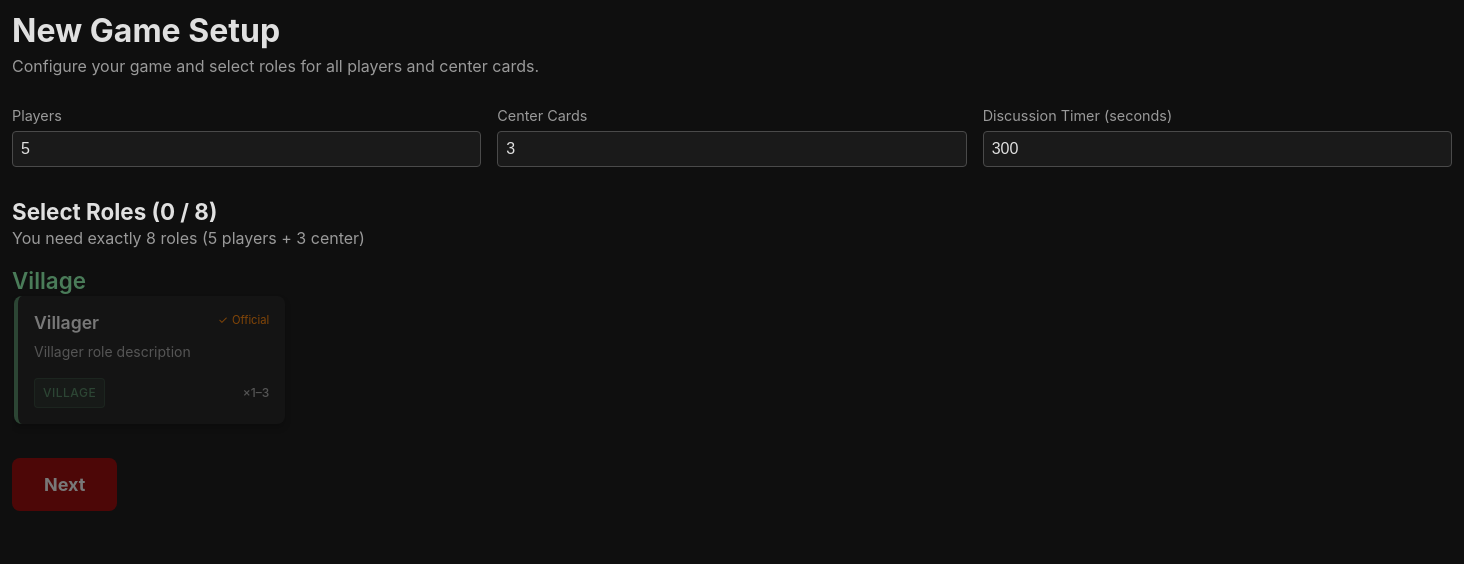
Scenario: GameSetupPage › multi-copy role selection › + button disabled at max_count
What coordinates should you click on to do the following:
click the text "Villager"
I would click on:
 (150, 360)
Its box is [12,294,287,426].
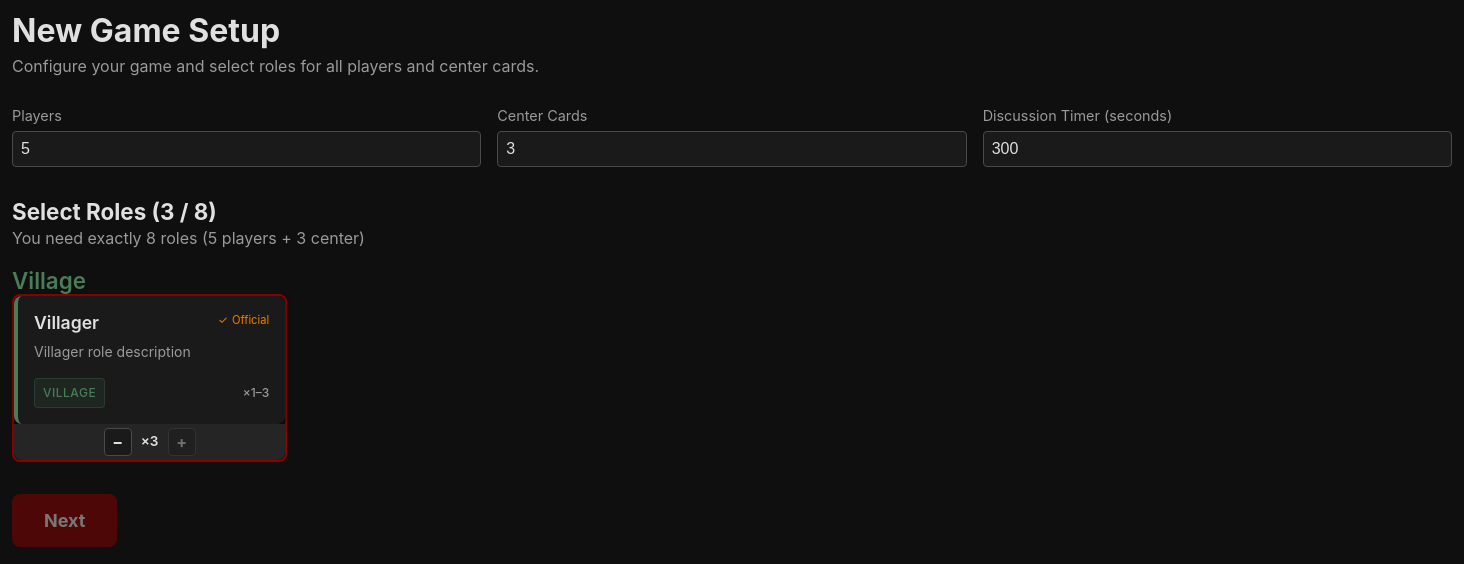
Expected: the button named "Increase Villager count" is disabled, [168,428,196,456]
